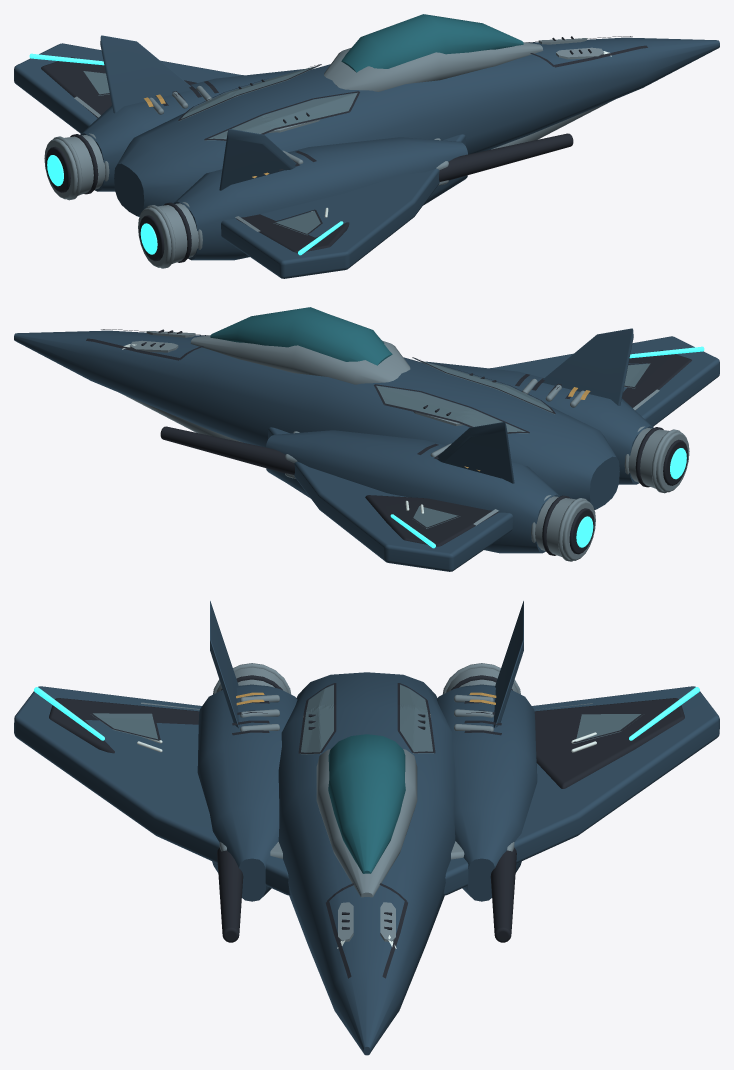
The model's file is wasp-refit.glb.
The picture shows the model from 3 angles, top to bottom: view 1: azimuth 30°, elevation 25°; view 2: azimuth 150°, elevation 25°; view 3: azimuth 270°, elevation 25°; orthographic projection. The views are drawn at different scales.
Visible parts, largest first — view 1: Main interceptor pressure hull, Drive nacelle -1, Swept wing spar -1, Raised wraparound canopy, Drive nacelle 1, Canopy frame, Swept wing spar 1, Stabiliser 1, Stabiliser -1, Long-range pulse cannon -1, Shoulder armour -1, Outer nozzle -1 (+10 smaller); view 2: Main interceptor pressure hull, Drive nacelle 1, Swept wing spar 1, Raised wraparound canopy, Drive nacelle -1, Canopy frame, Swept wing spar -1, Stabiliser -1, Carbon slat 1, Stabiliser 1, Long-range pulse cannon 1, Shoulder armour 1 (+10 smaller); view 3: Main interceptor pressure hull, Swept wing spar -1, Drive nacelle 1, Drive nacelle -1, Swept wing spar 1, Raised wraparound canopy, Carbon slat 1, Canopy frame, Carbon slat -1, Long-range pulse cannon -1, Long-range pulse cannon 1, Shoulder armour -1 (+5 smaller).
Boxes of the visible parts, x1,y1,x2,y2 form: Main interceptor pressure hull: (114,37,719,216); Drive nacelle -1: (173,137,467,260); Swept wing spar -1: (221,134,465,278); Raised wraparound canopy: (341,14,523,72); Drive nacelle 1: (80,69,303,191); Canopy frame: (324,42,543,91); Swept wing spar 1: (14,43,243,133); Stabiliser 1: (100,35,190,113); Stabiliser -1: (219,129,296,190); Long-range pulse cannon -1: (439,133,573,181); Shoulder armour -1: (205,92,357,140); Outer nozzle -1: (138,203,198,267); Main interceptor pressure hull: (14,330,619,509); Drive nacelle 1: (266,430,560,553); Swept wing spar 1: (268,427,512,571); Raised wraparound canopy: (210,307,392,365); Drive nacelle -1: (426,361,653,484); Canopy frame: (190,335,410,384); Swept wing spar -1: (490,336,719,426); Stabiliser -1: (543,328,633,405); Carbon slat 1: (365,495,498,546); Stabiliser 1: (437,422,514,483); Long-range pulse cannon 1: (160,426,294,474); Shoulder armour 1: (376,385,528,433); Main interceptor pressure hull: (278,672,455,1055); Swept wing spar -1: (14,686,290,895); Drive nacelle 1: (436,684,537,901); Drive nacelle -1: (197,684,297,901); Swept wing spar 1: (443,686,719,895); Raised wraparound canopy: (328,734,405,873); Carbon slat 1: (534,698,684,788); Canopy frame: (316,749,417,897); Carbon slat -1: (49,698,199,753); Long-range pulse cannon -1: (217,847,243,942); Long-range pulse cannon 1: (490,847,516,942); Shoulder armour -1: (300,685,333,754).
Bounding box in the file's own units: 6.63 × 1.7 × 5.35.
